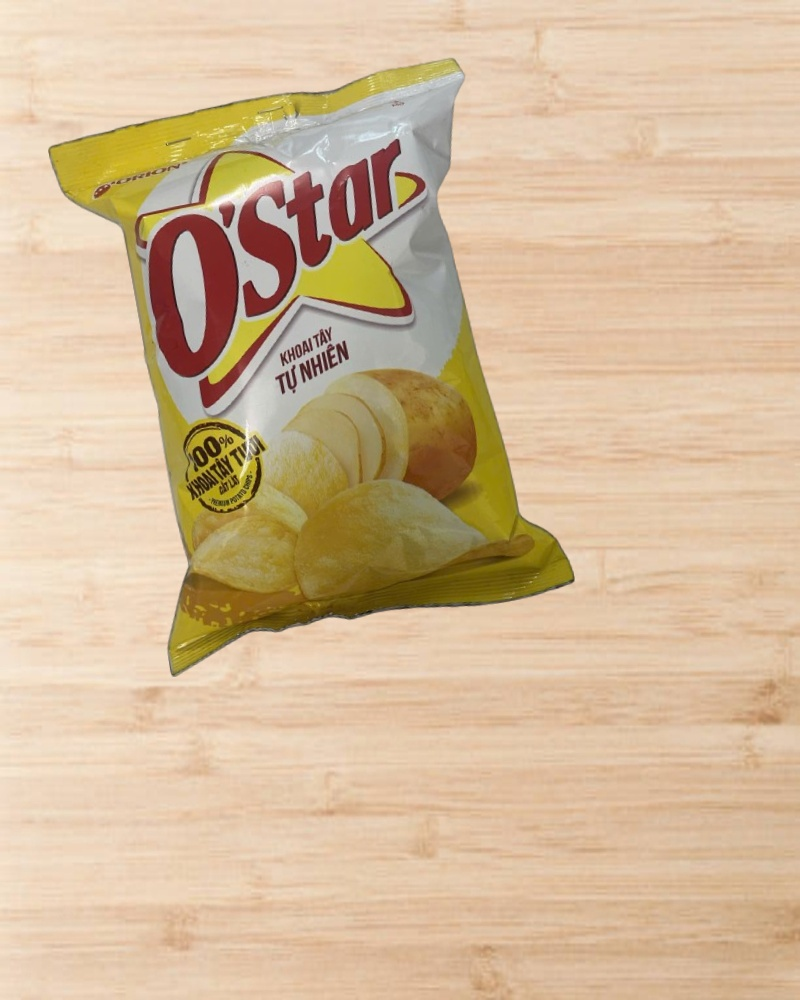O'star: (47, 53, 579, 682)
